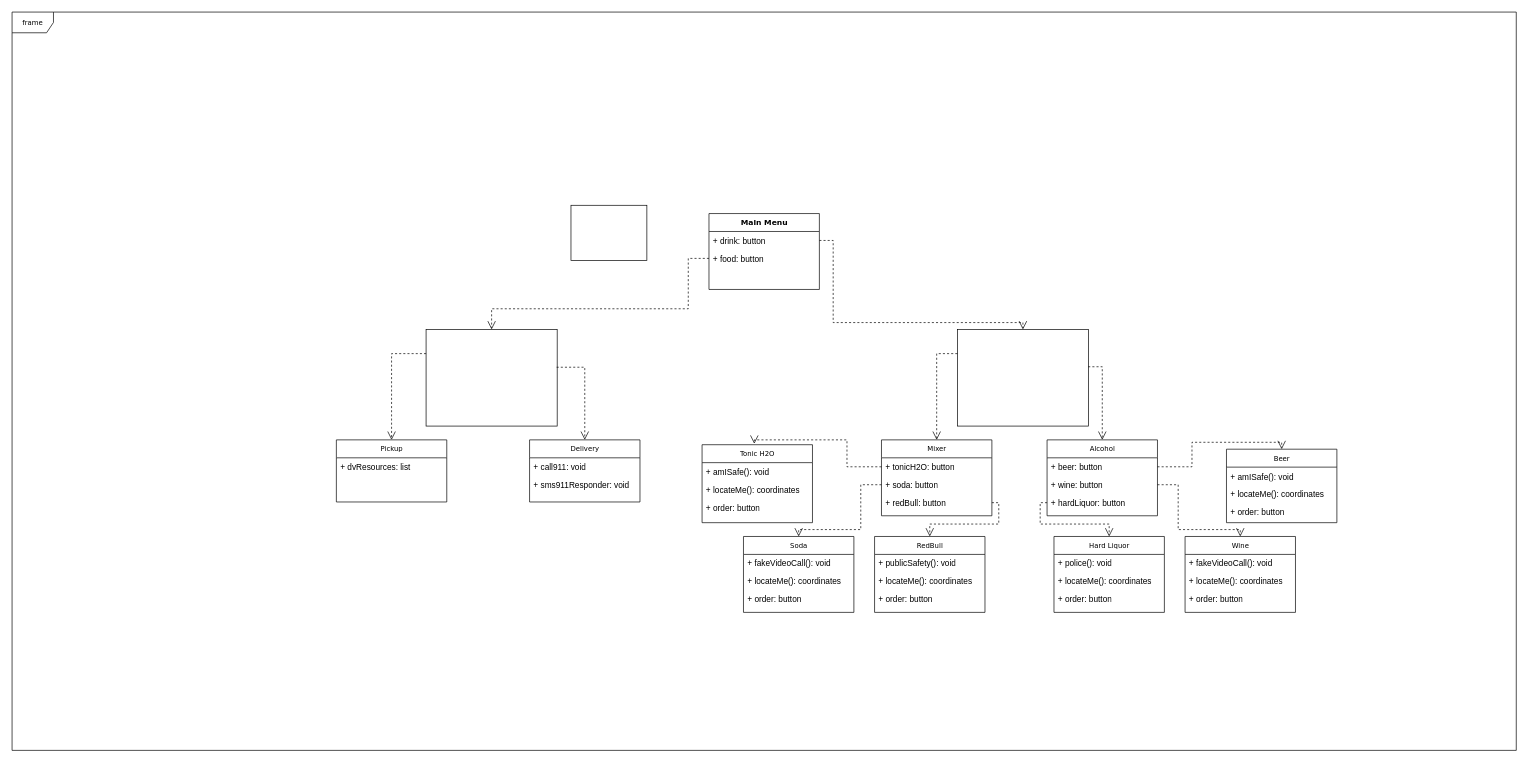
This 1528x762 diagram has some shape labels left out. The centre of each missing label's shape, as x and y in pixels:
"Drink Menu + mixer: button + alcohol: button" belongs at [1022,377].
"Food Menu + pickup: button + delivery: button" belongs at [491,377].
"Josh L Kyla L Angela L" belongs at [608,232].
